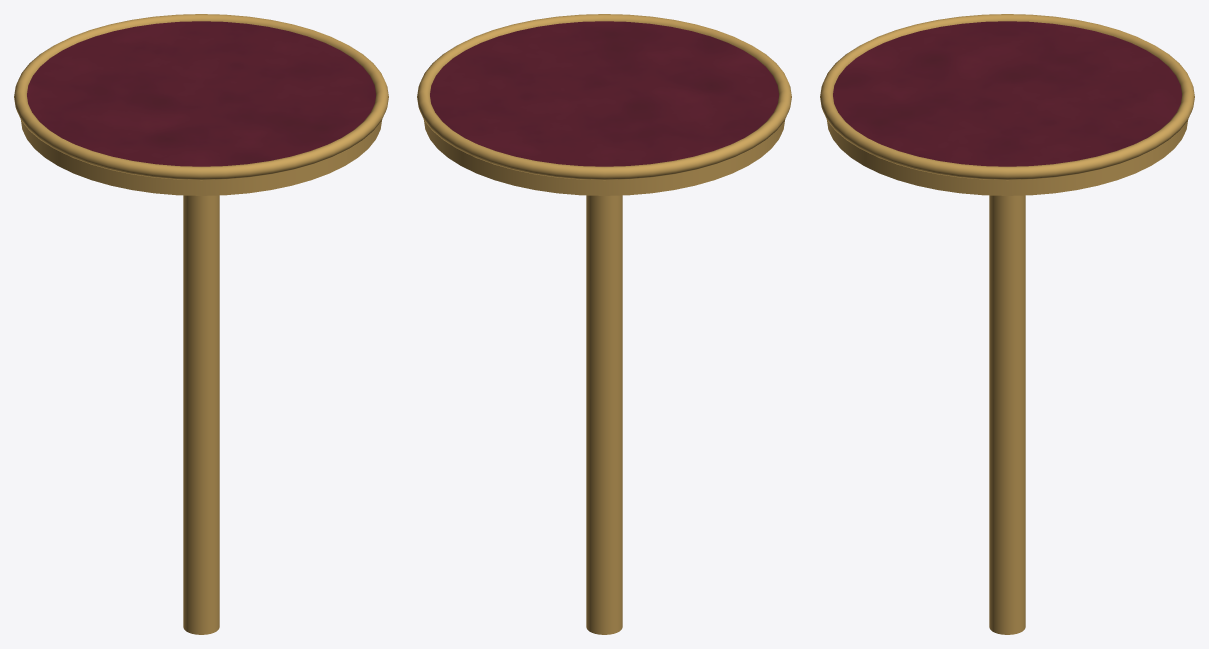
File: stage.glb
The picture shows the model from 3 angles, left to right: view 1: azimuth 30°, elevation 25°; view 2: azimuth 150°, elevation 25°; view 3: azimuth 270°, elevation 25°; orthographic projection.
Parts seen in each view (by area): view 1: stage; view 2: stage; view 3: stage.
Part boxes in pixels (x1,y1,x2,y2): stage: [14, 14, 388, 634]; stage: [417, 14, 791, 634]; stage: [820, 14, 1194, 634].
Bounding box in the file's own units: 0.083 × 0.1309 × 0.083.
Materials: 2 (1 with a texture image).
